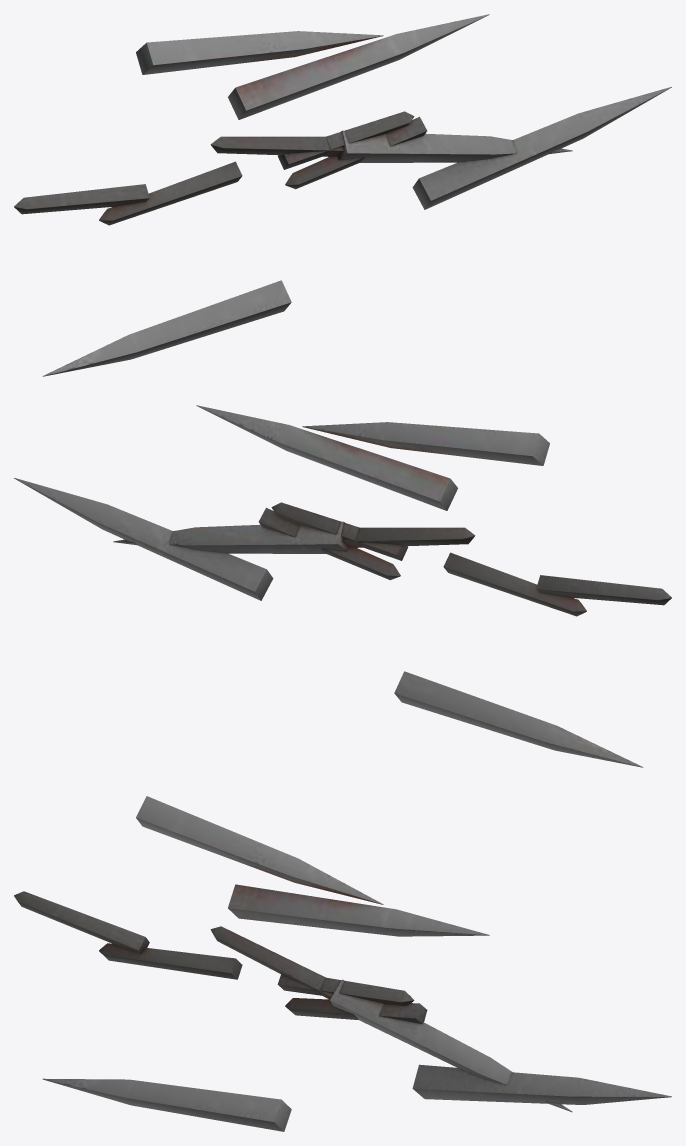
Rendered from arrowheads_bodkin.glb.
The picture shows the model from 3 angles, top to bottom: view 1: azimuth 30°, elevation 25°; view 2: azimuth 150°, elevation 25°; view 3: azimuth 330°, elevation 25°; orthographic projection.
Visible parts, largest first — view 1: arrowheads_bodkin; view 2: arrowheads_bodkin; view 3: arrowheads_bodkin.
Part boxes in pixels (<box>): arrowheads_bodkin: <box>14,14,671,376</box>; arrowheads_bodkin: <box>14,405,671,767</box>; arrowheads_bodkin: <box>14,796,671,1131</box>.
Bounding box in the file's own units: 0.1424 × 0.0648 × 0.00694.
1 material, 1 textured.
